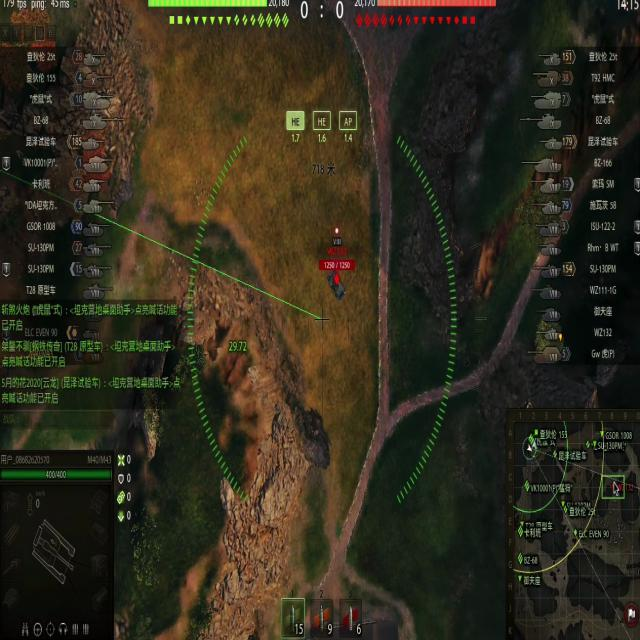tank: (320, 250, 355, 304)
